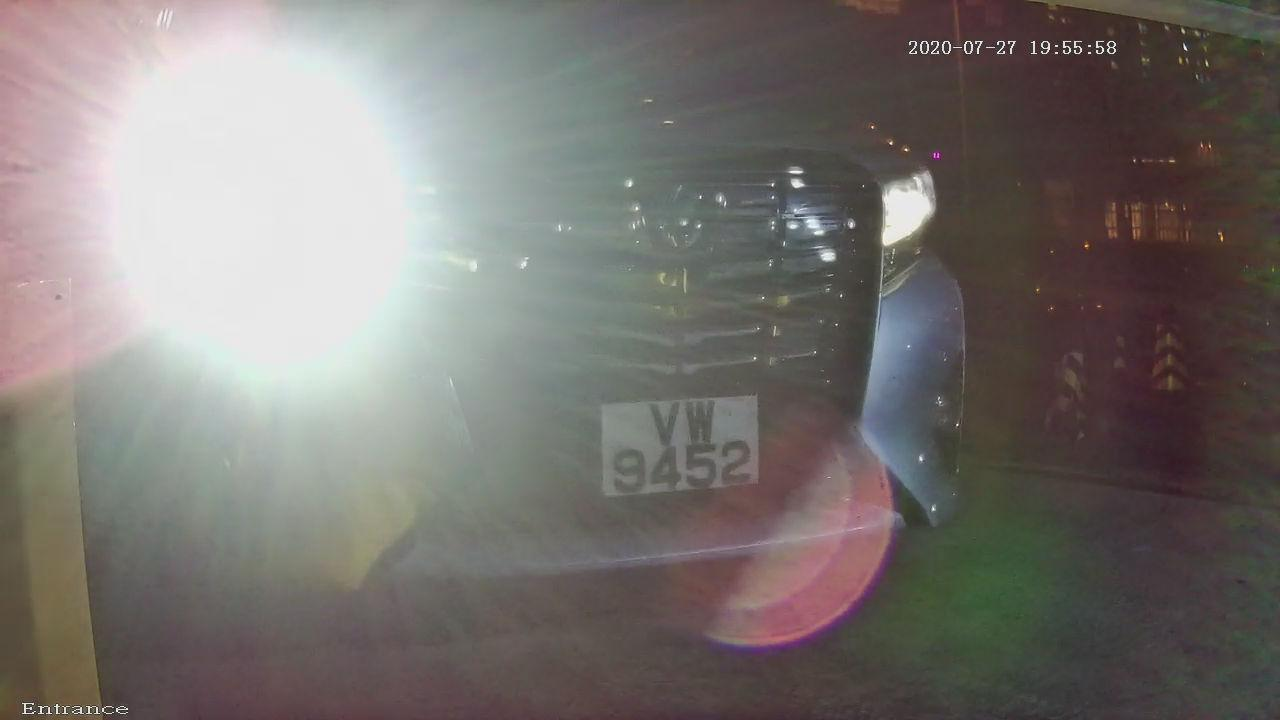privatecar: (23, 1, 978, 688)
